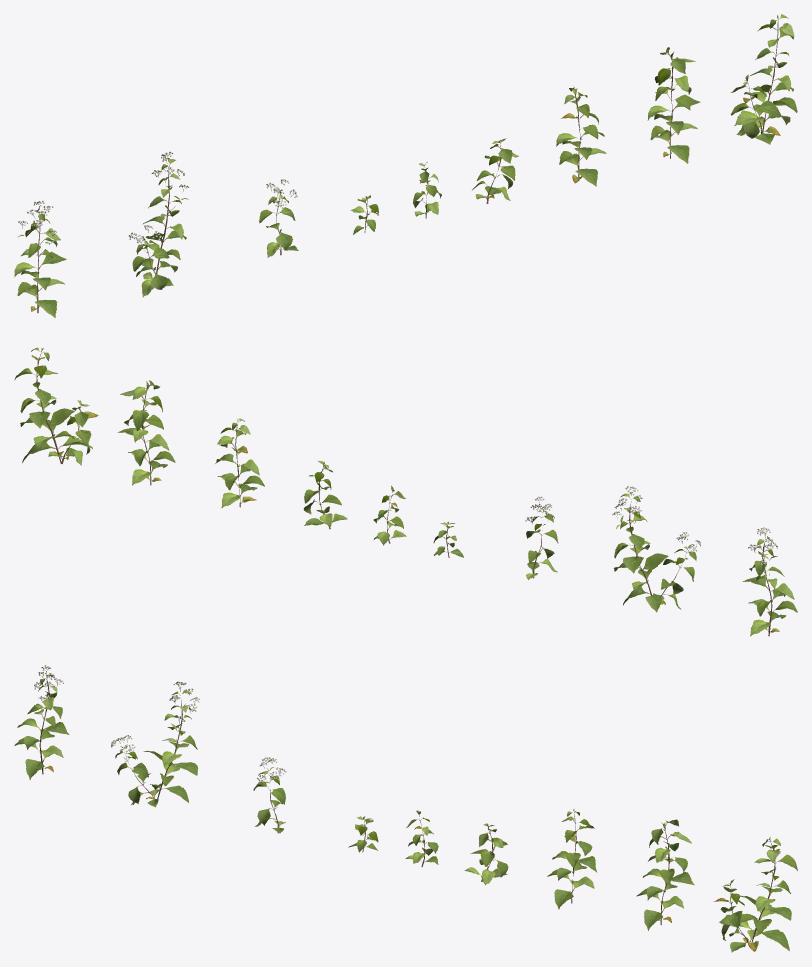
Rendered from shrub.glb.
3 views of the same model, one above another, from view 1: azimuth 30°, elevation 25°; view 2: azimuth 150°, elevation 25°; view 3: azimuth 330°, elevation 25° (orthographic). The views are drawn at different scales.
Parts seen in each view (by area): view 1: shrub_01_a; view 2: shrub_01_a; view 3: shrub_01_a.
Boxes of the visible parts, box(x1,y1,x2,y2) form: shrub_01_a: box(14, 14, 797, 318); shrub_01_a: box(14, 347, 797, 636); shrub_01_a: box(14, 665, 797, 952).
Bounding box in the file's own units: 2.59 × 0.3955 × 0.2182.
1 material, 1 textured.
